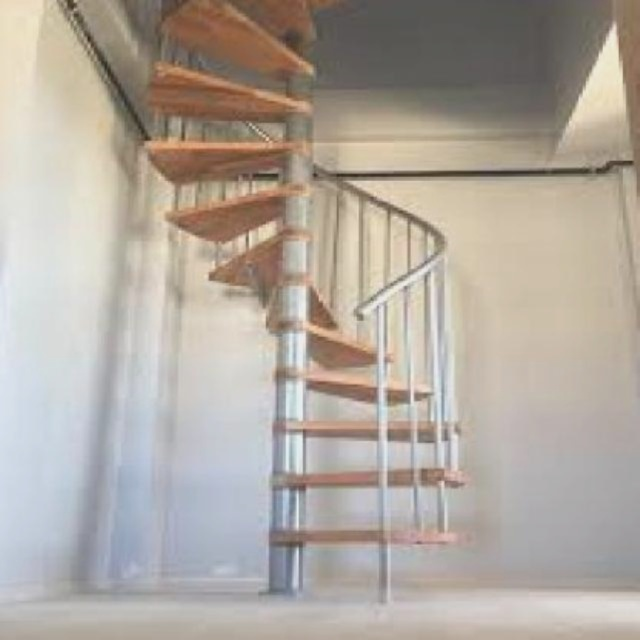stair: (122, 8, 484, 590)
